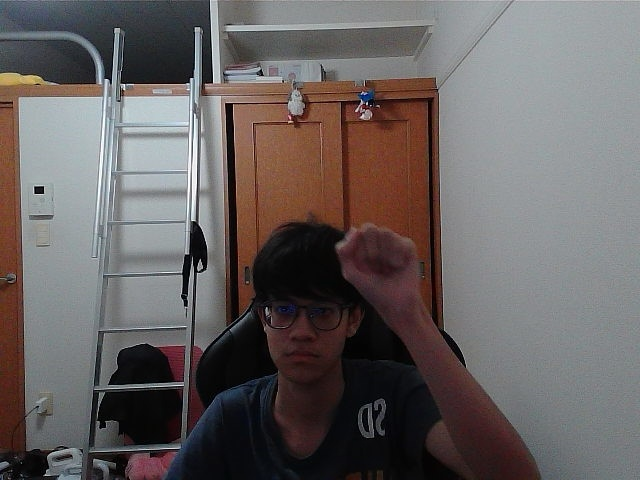closed_palm: (343, 231, 407, 295)
